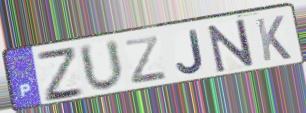J: (175, 28, 206, 76)
K: (253, 13, 293, 63)
N: (205, 17, 256, 75)
U: (76, 37, 128, 94)
Z: (34, 47, 87, 105), (122, 34, 170, 86)
